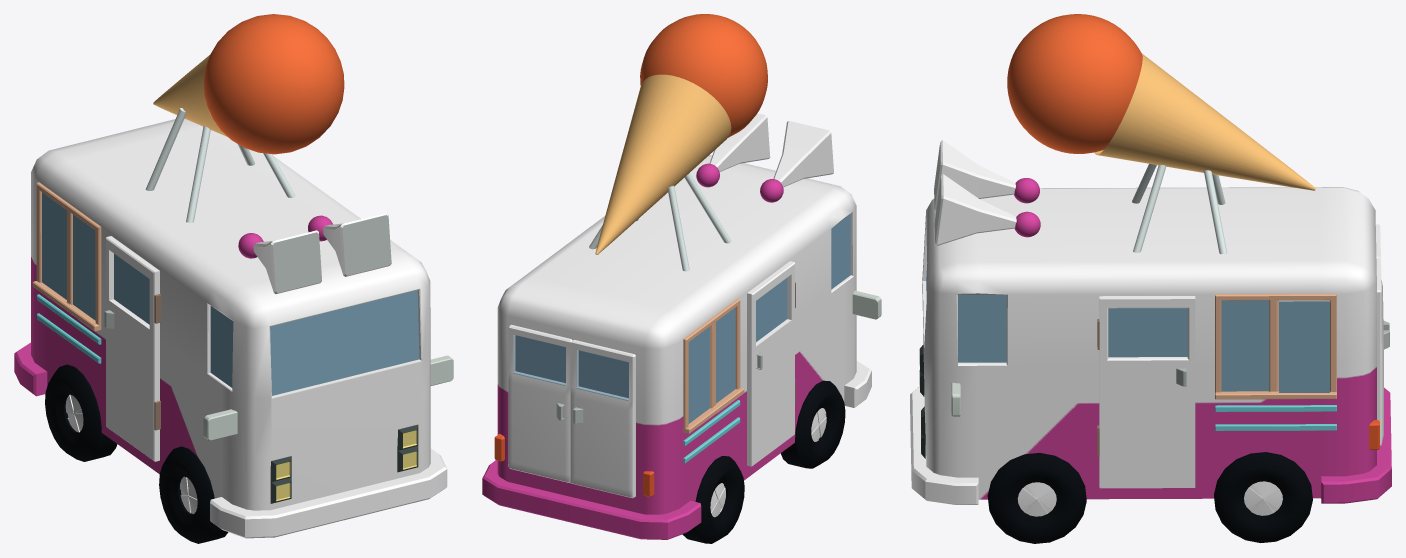
File: Icecream truck@idle.fbx
The picture shows the model from 3 angles, left to right: view 1: azimuth 30°, elevation 25°; view 2: azimuth 150°, elevation 25°; view 3: azimuth 270°, elevation 25°; orthographic projection. The views are drawn at different scales.
Visible parts, largest first — view 1: xe_ban_kem, wheel3, wheel2; view 2: xe_ban_kem, wheel2, wheel3; view 3: xe_ban_kem, wheel4, wheel5.
Boxes of the visible parts, <box> form: xe_ban_kem: <box>14,14,453,538</box>; wheel3: <box>45,364,117,461</box>; wheel2: <box>159,446,228,543</box>; xe_ban_kem: <box>482,14,881,539</box>; wheel2: <box>781,380,845,468</box>; wheel3: <box>682,456,744,543</box>; xe_ban_kem: <box>910,14,1391,504</box>; wheel4: <box>1214,452,1312,542</box>; wheel5: <box>987,453,1086,543</box>.
Bounding box in the file's own units: 7.55 × 13.97 × 12.77.
